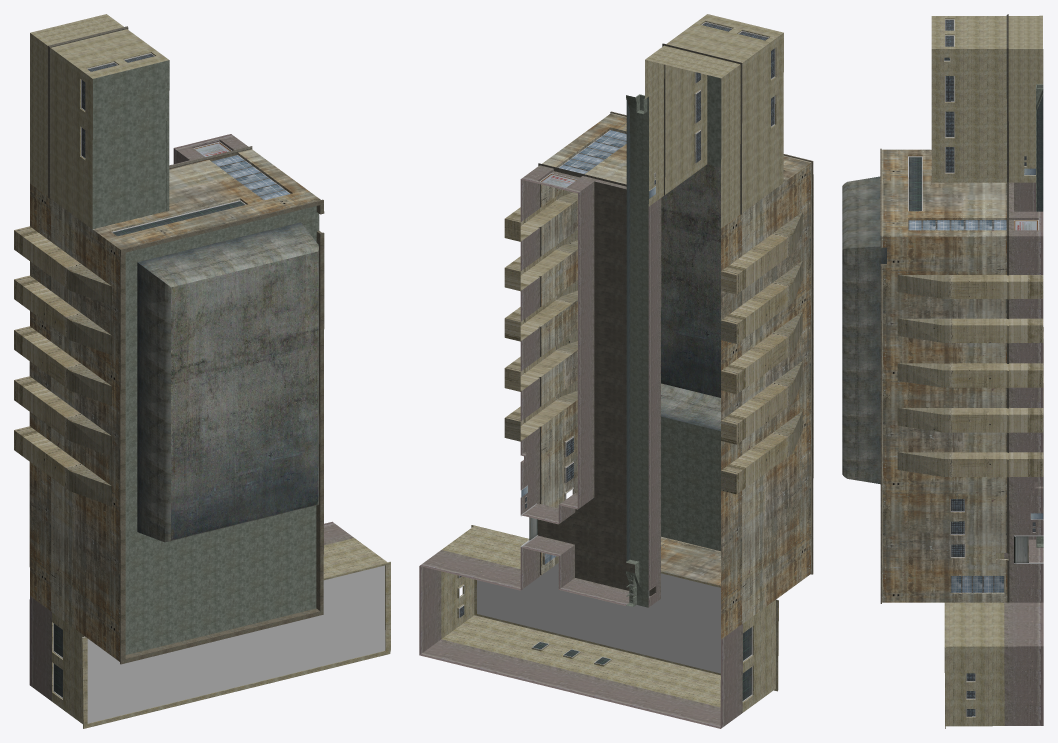
Rendered from kraftwerk.fbx.
3 views of the same model, side by side, from view 1: azimuth 30°, elevation 25°; view 2: azimuth 150°, elevation 25°; view 3: azimuth 270°, elevation 25° (orthographic). The views are drawn at different scales.
Visible parts, largest first — view 1: MDL-Objec1; view 2: MDL-Objec1; view 3: MDL-Objec1.
Boxes of the visible parts, bbox=[...] form: MDL-Objec1: bbox=[14, 14, 390, 728]; MDL-Objec1: bbox=[419, 14, 813, 728]; MDL-Objec1: bbox=[842, 14, 1043, 728].
Size of the model in its own units: 67.07 by 131 by 41.08.
